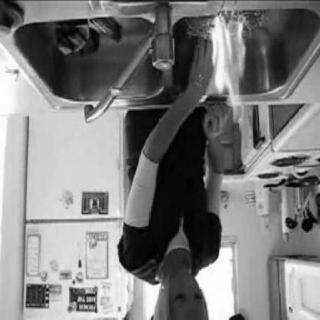Fire: (187, 10, 259, 156)
